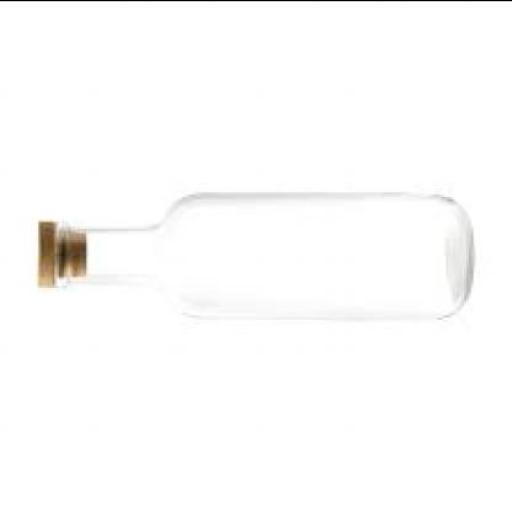glass: (52, 191, 471, 314)
